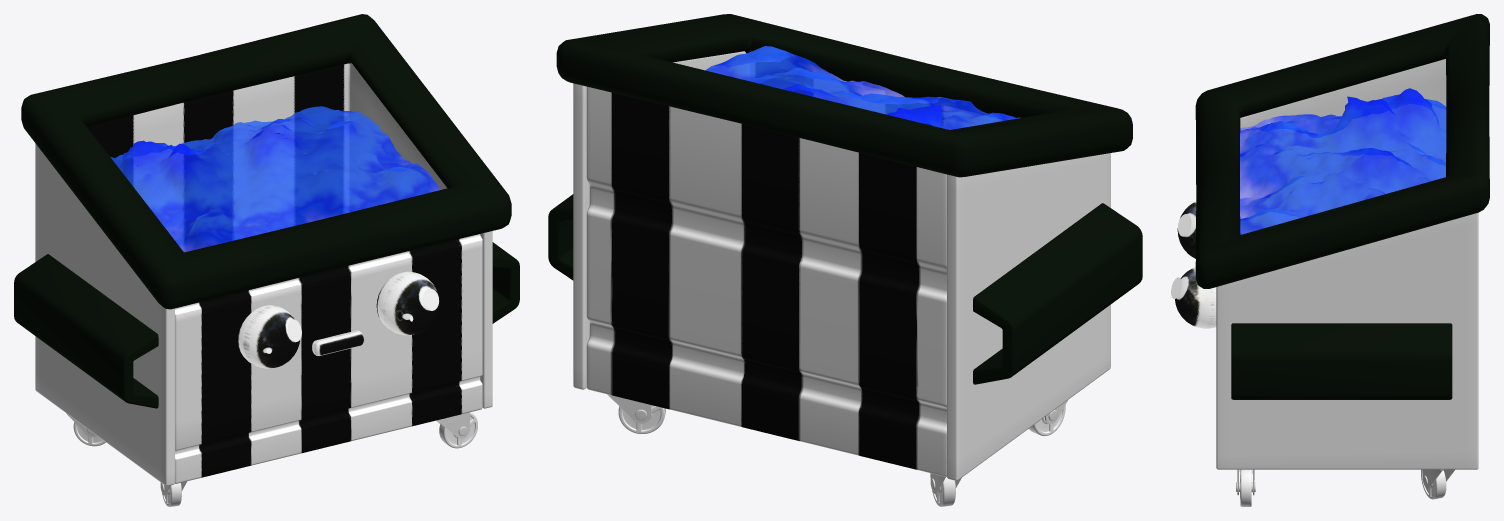
The picture shows the model from 3 angles, left to right: view 1: azimuth 30°, elevation 25°; view 2: azimuth 150°, elevation 25°; view 3: azimuth 270°, elevation 25°; orthographic projection. The views are drawn at different scales.
Parts seen in each view (by area): view 1: Dumpster Geometry, Explosion Fire Base.002, Wheel Holder; view 2: Dumpster Geometry, Explosion Fire Base.002, Wheel Holder; view 3: Dumpster Geometry, Explosion Fire Base.002, Wheel Holder.
Boxes of the visible parts, <box> form: Dumpster Geometry: <box>14,14,519,506</box>; Explosion Fire Base.002: <box>110,106,440,252</box>; Wheel Holder: <box>66,412,469,495</box>; Dumpster Geometry: <box>548,14,1142,506</box>; Explosion Fire Base.002: <box>705,46,1020,129</box>; Wheel Holder: <box>607,394,1067,493</box>; Dumpster Geometry: <box>1171,14,1489,506</box>; Explosion Fire Base.002: <box>1240,88,1446,234</box>; Wheel Holder: <box>1236,469,1454,495</box>.
Size of what is drawn, in the model's own units: 2.31 by 1.89 by 1.61.
Materials: 7 (4 with a texture image).
